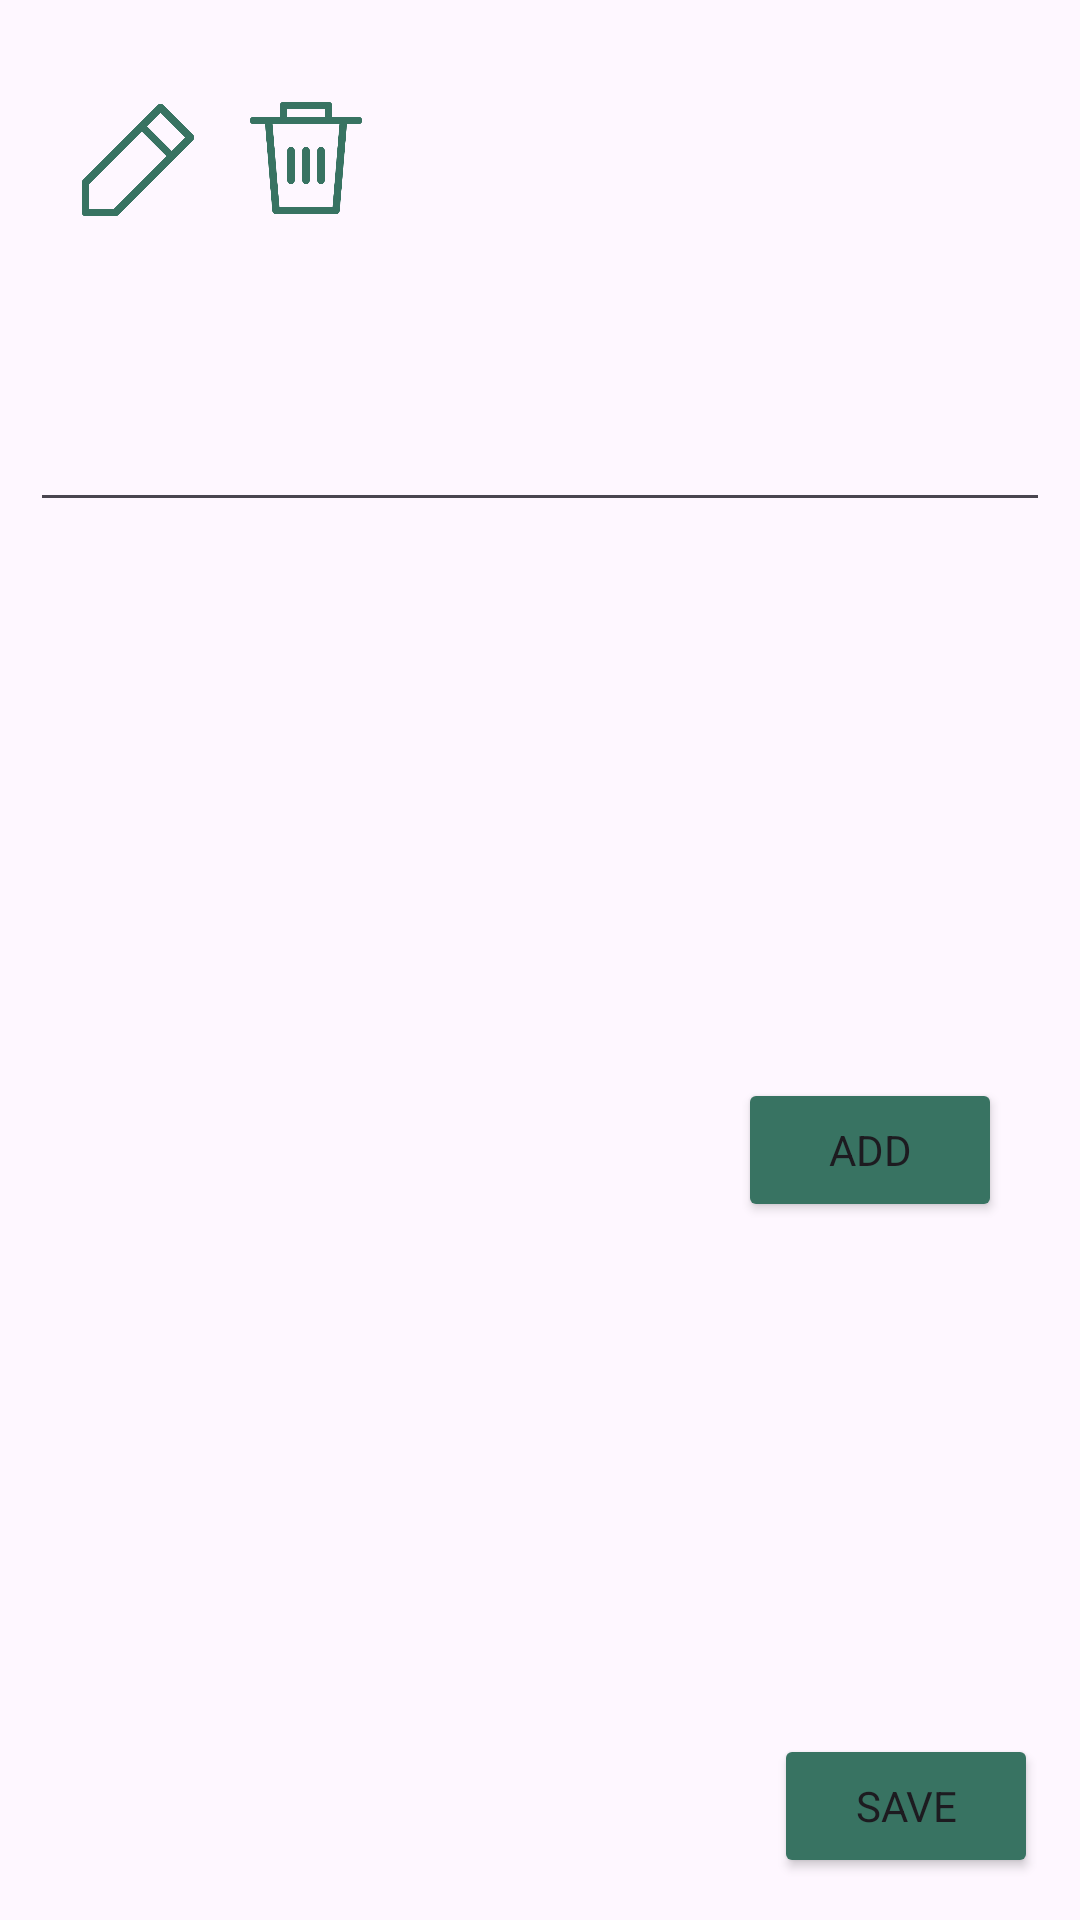

Icons on this 1080 × 1920 Android screen, each with its box as (x1, y1, x2, y2):
trash: (250, 102, 362, 214)
